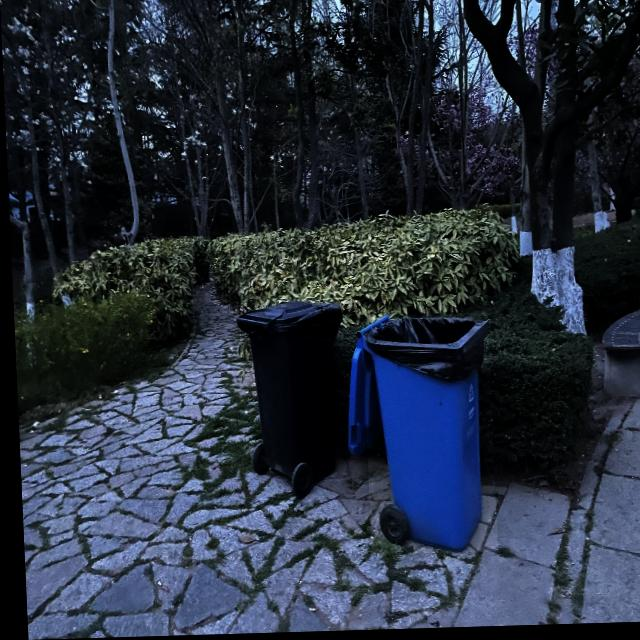garbage_bin: (359, 316, 493, 557), (232, 300, 344, 486)
